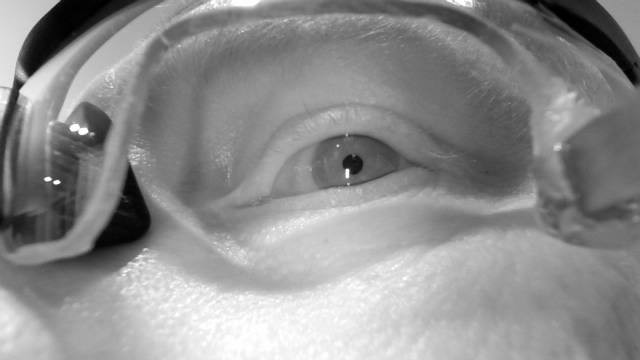pupil: (342, 153, 364, 175)
